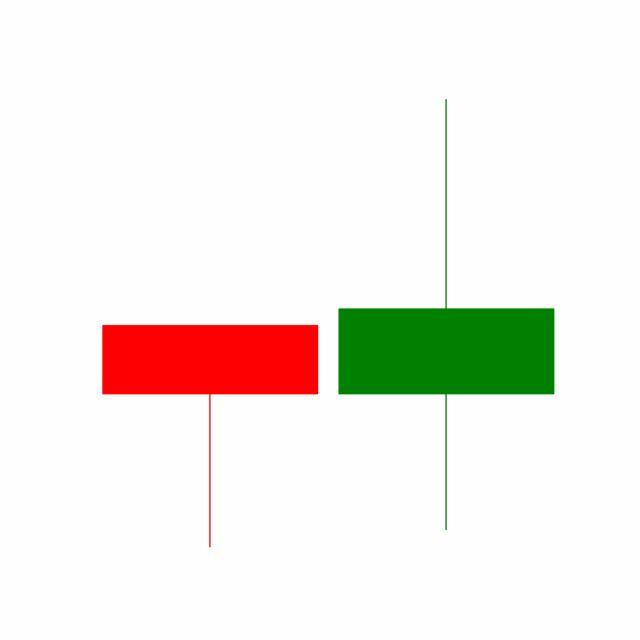Spinning Top: (328, 95, 566, 536)
